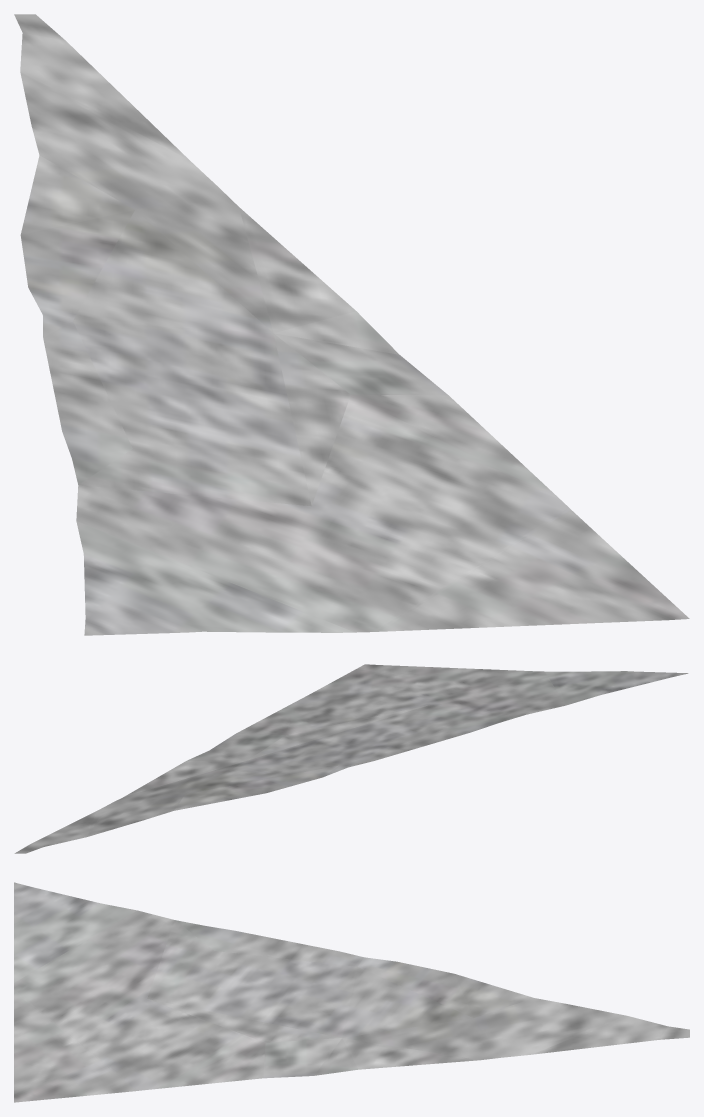
3 renders of one model, top to bottom at view 1: azimuth 30°, elevation 25°; view 2: azimuth 150°, elevation 25°; view 3: azimuth 270°, elevation 25°, orthographic. The views are drawn at different scales.
Bounding box in the file's own units: 0.4474 × 0.0925 × 0.8373.
Materials: 1 (1 with a texture image).
